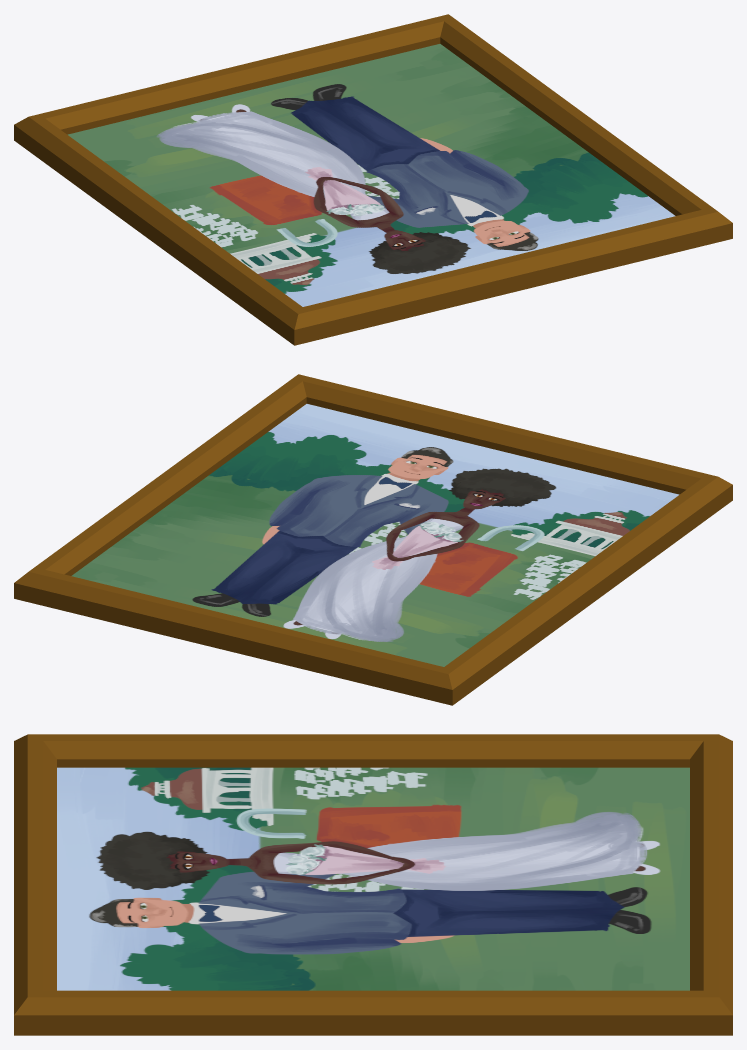
The model's file is weddingPhoto.glb.
The picture shows the model from 3 angles, top to bottom: view 1: azimuth 30°, elevation 25°; view 2: azimuth 150°, elevation 25°; view 3: azimuth 270°, elevation 25°; orthographic projection. The views are drawn at different scales.
Parts seen in each view (by area): view 1: weddingPhoto; view 2: weddingPhoto; view 3: weddingPhoto.
Part boxes in pixels (bbox=[...]): weddingPhoto: bbox=[14, 14, 732, 345]; weddingPhoto: bbox=[14, 374, 732, 705]; weddingPhoto: bbox=[14, 734, 732, 1035].
Bounding box in the file's own units: 1.81 × 0.1 × 2.
2 materials, 1 textured.
